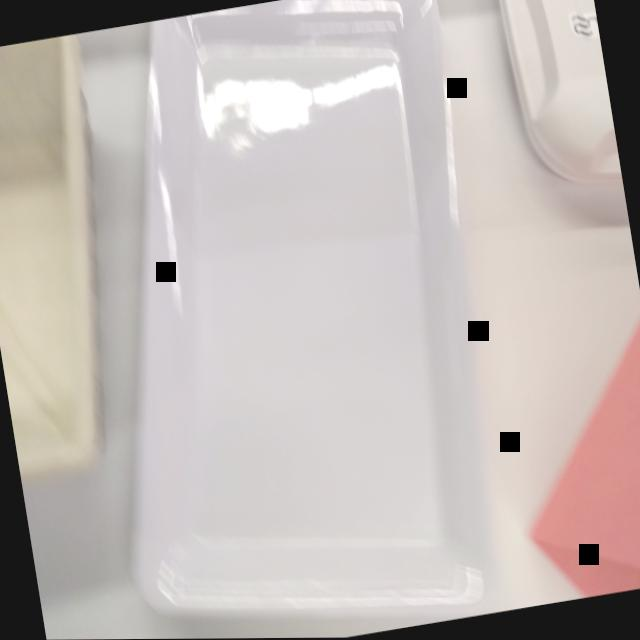basket: (0, 33, 146, 491)
tray: (35, 0, 536, 640)
